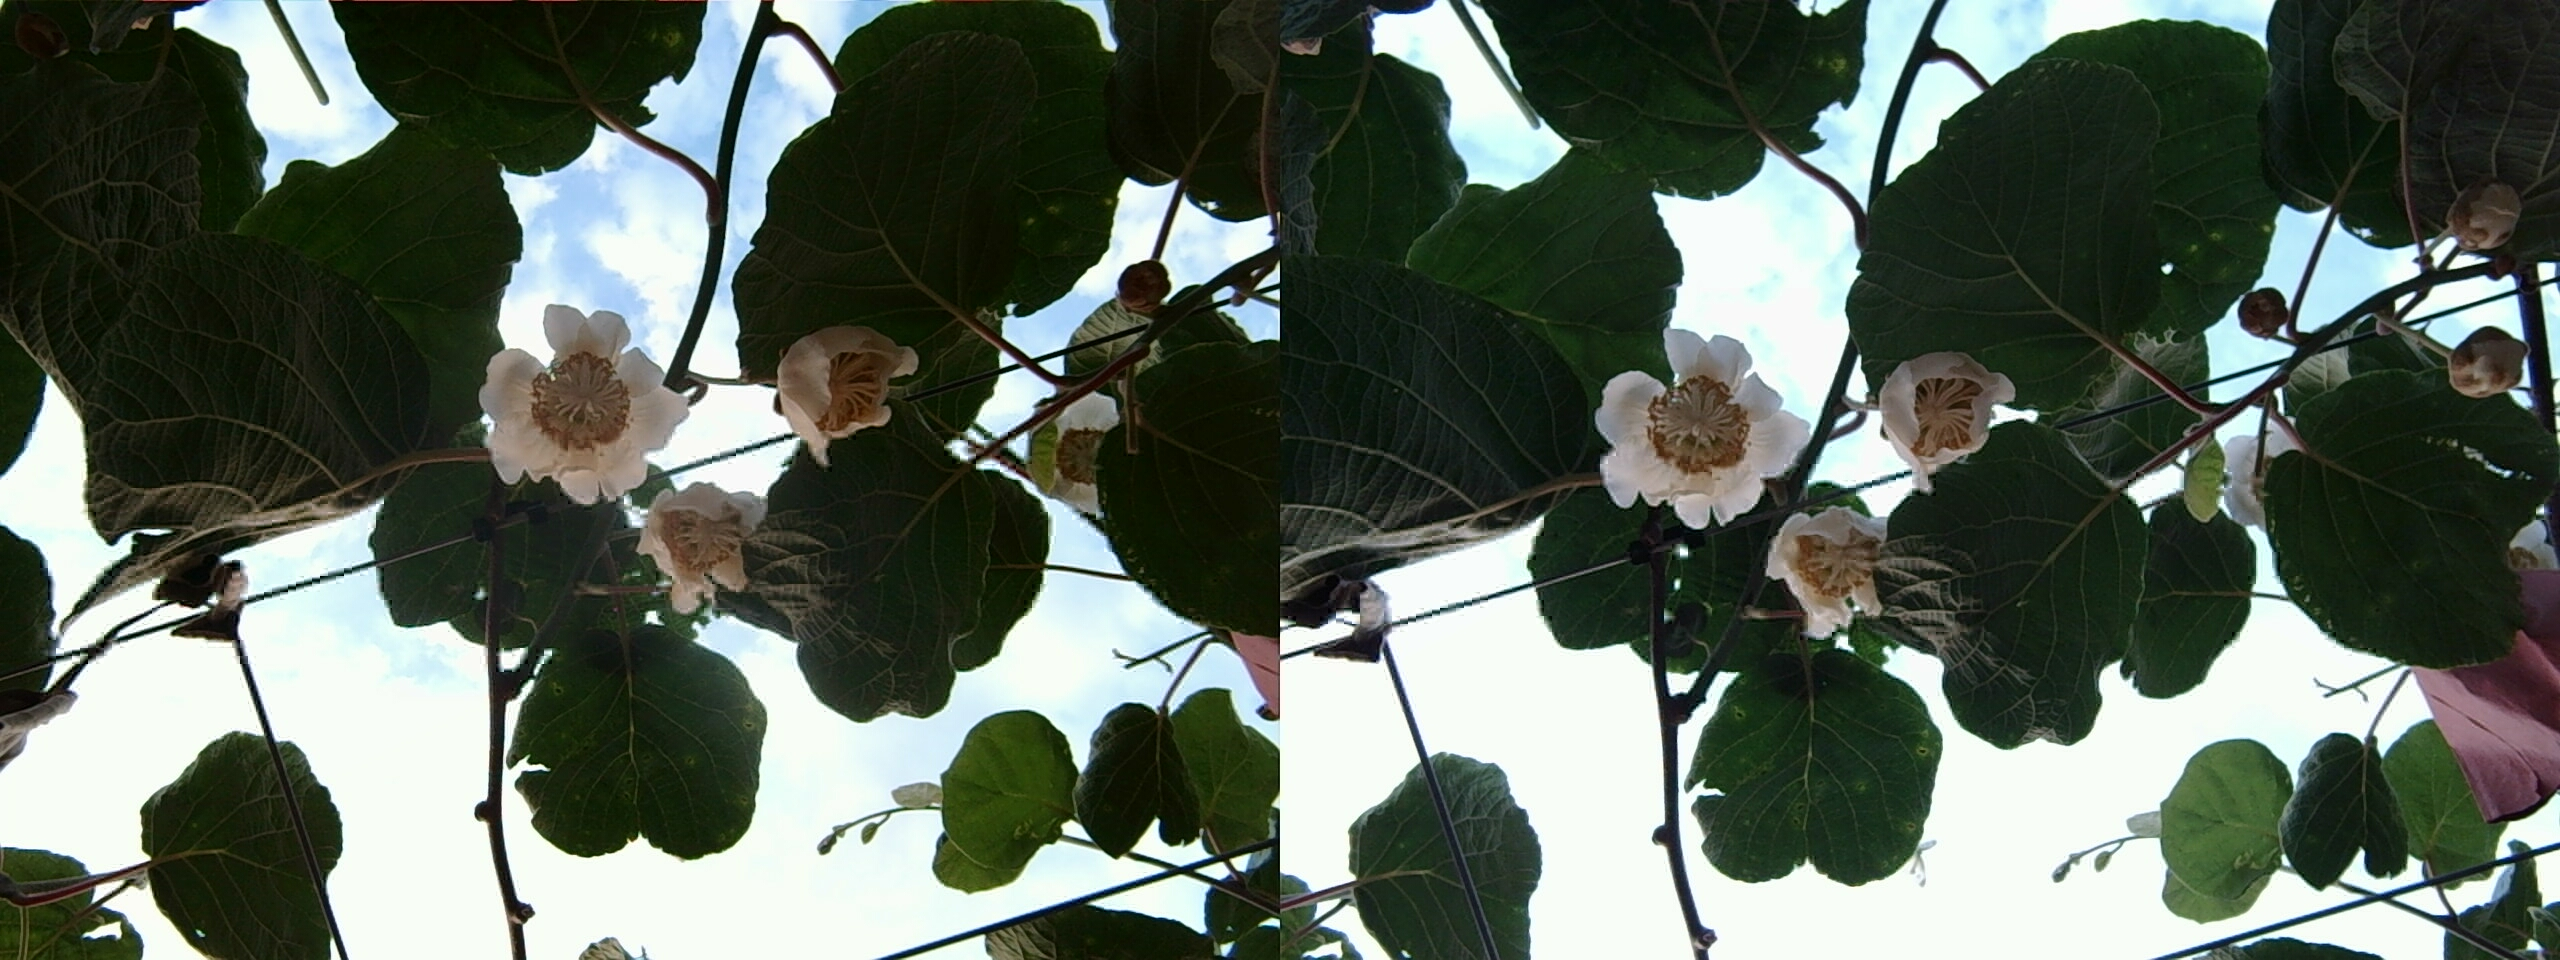flower: (475, 296, 687, 495), (1589, 322, 1798, 519), (1868, 344, 2021, 473), (777, 320, 913, 447), (637, 477, 764, 607), (1771, 508, 1892, 629)
